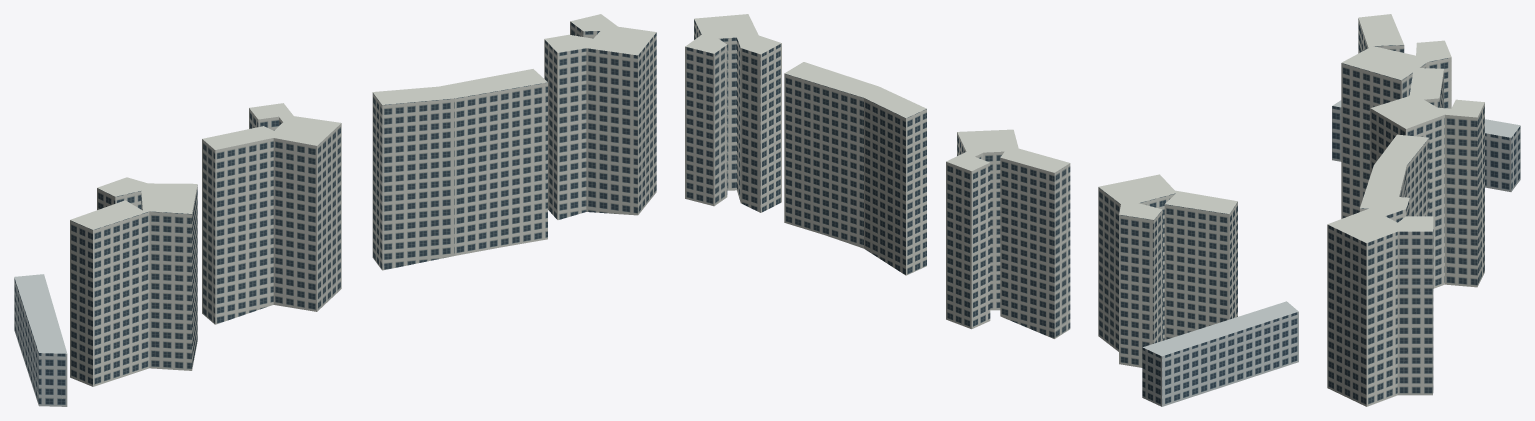
Rendered from city_-9_-6.glb.
3 views of the same model, side by side, from view 1: azimuth 30°, elevation 25°; view 2: azimuth 150°, elevation 25°; view 3: azimuth 270°, elevation 25° (orthographic). The views are drawn at different scales.
Size of the model in its own units: 217 by 71.1 by 56.81.
Materials: 2 (2 with a texture image).
